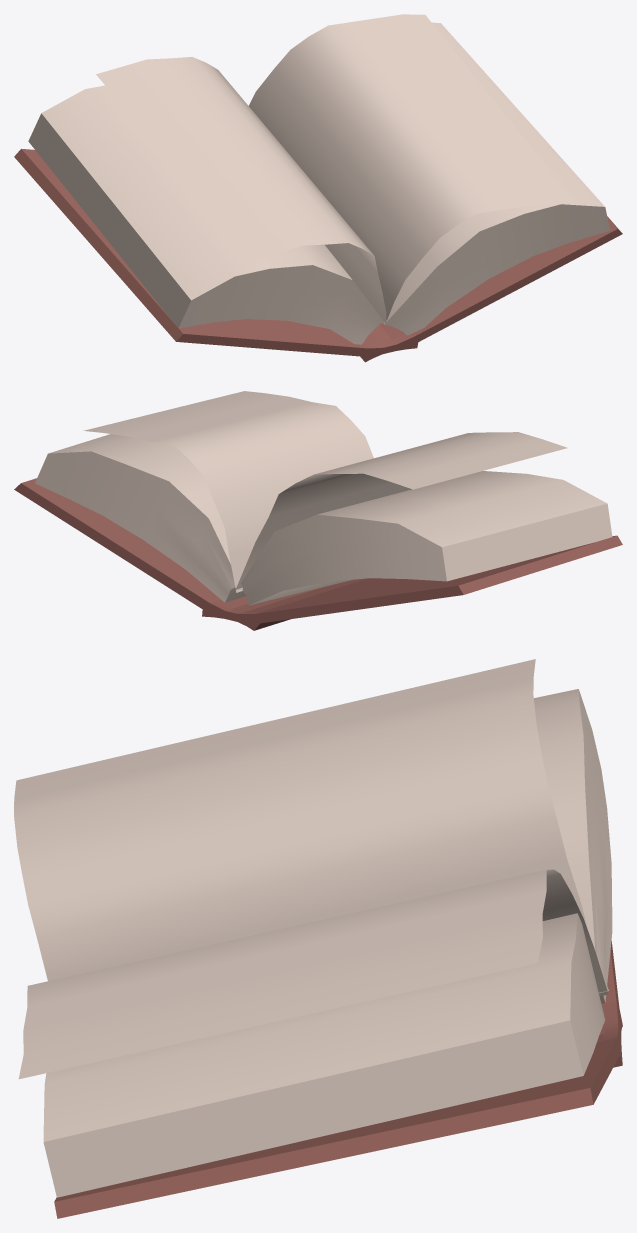
File: book.fbx
3 renders of one model, top to bottom at view 1: azimuth 30°, elevation 25°; view 2: azimuth 150°, elevation 25°; view 3: azimuth 270°, elevation 25°, orthographic. The views are drawn at different scales.
Visible parts, largest first — view 1: book2; view 2: book2; view 3: book2.
Part boxes in pixels (x1,y1,x2,y2): book2: (14,14,622,362); book2: (14,391,622,630); book2: (14,659,622,1218).
Size of the model in its own units: 162 by 77.45 by 114.
